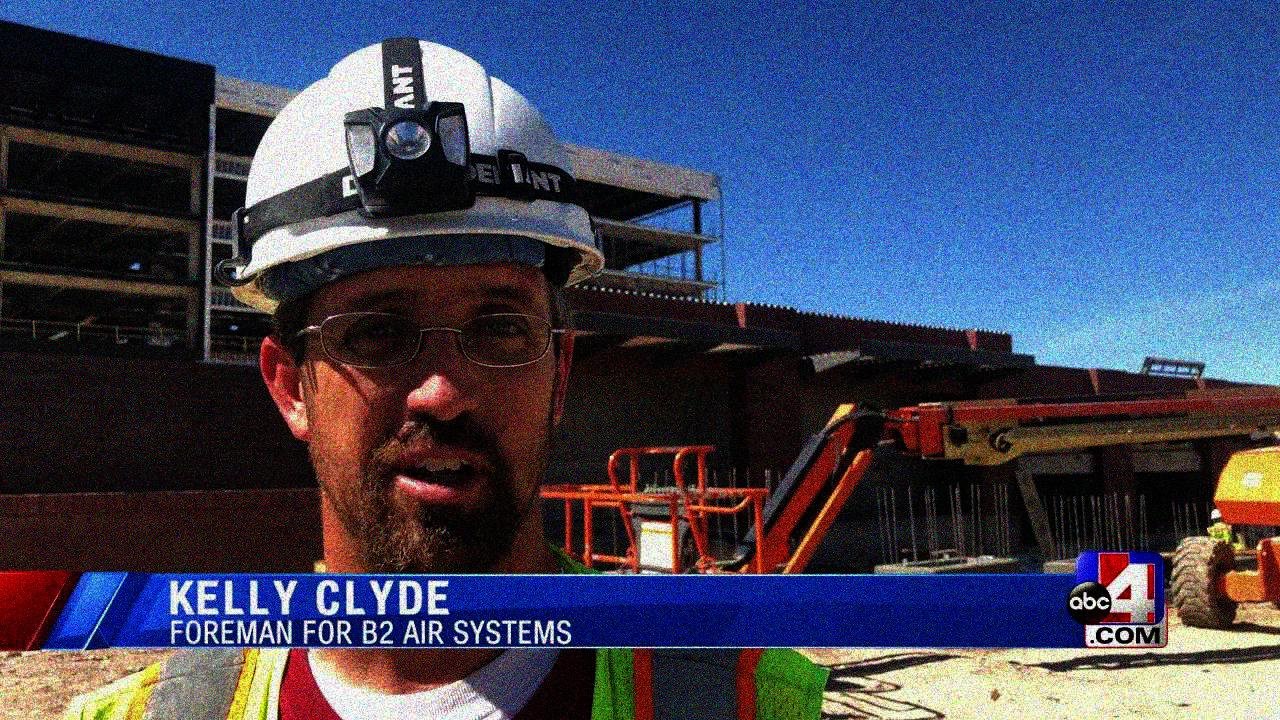helmet: (218, 38, 604, 573), (1210, 509, 1224, 523)
